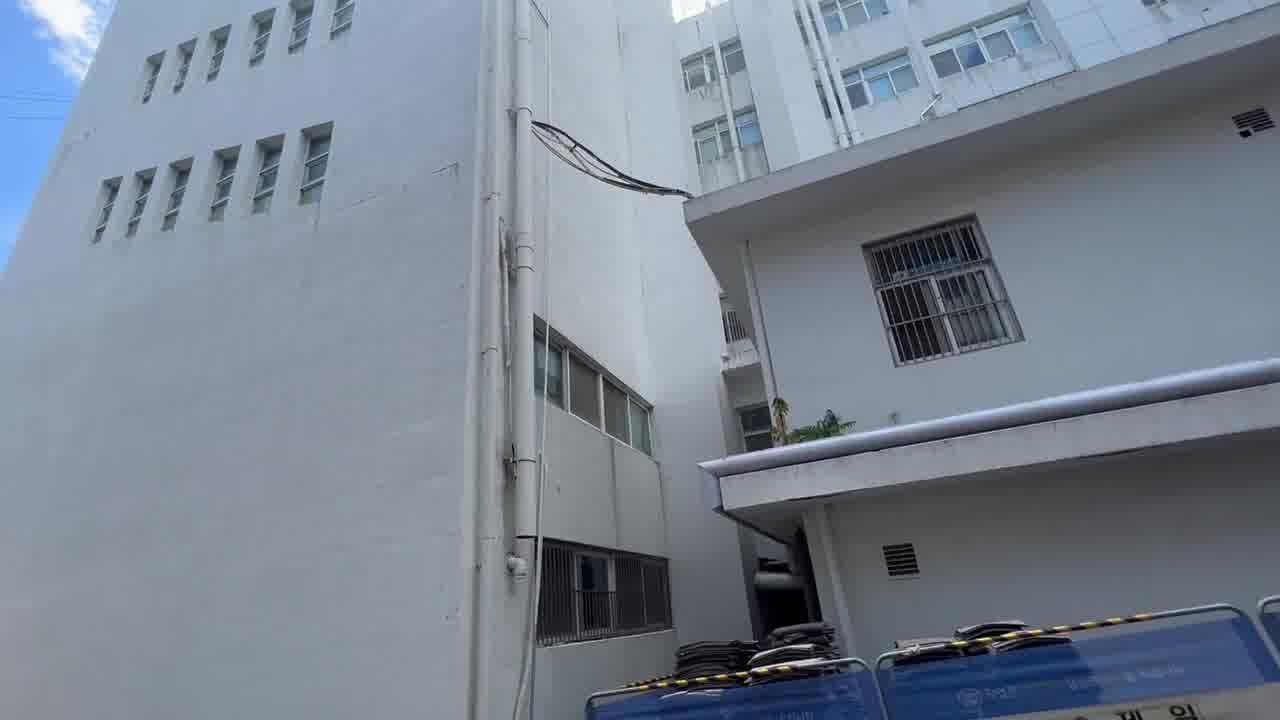building: (104, 3, 1280, 720)
